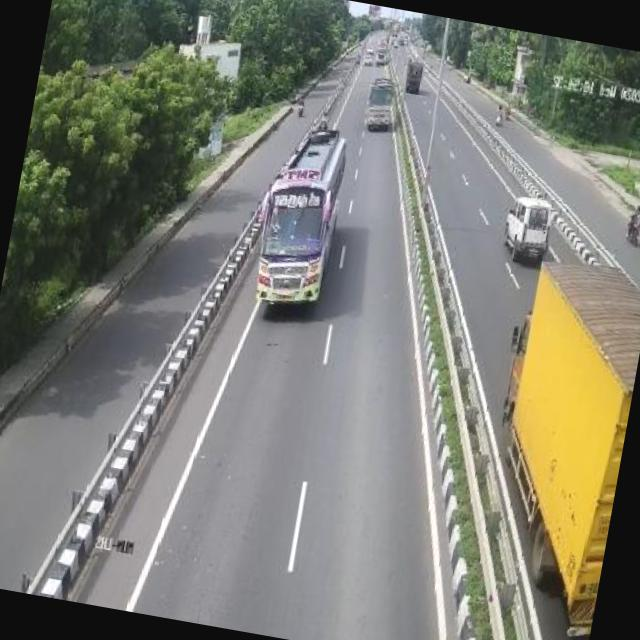car: (494, 190, 557, 256)
